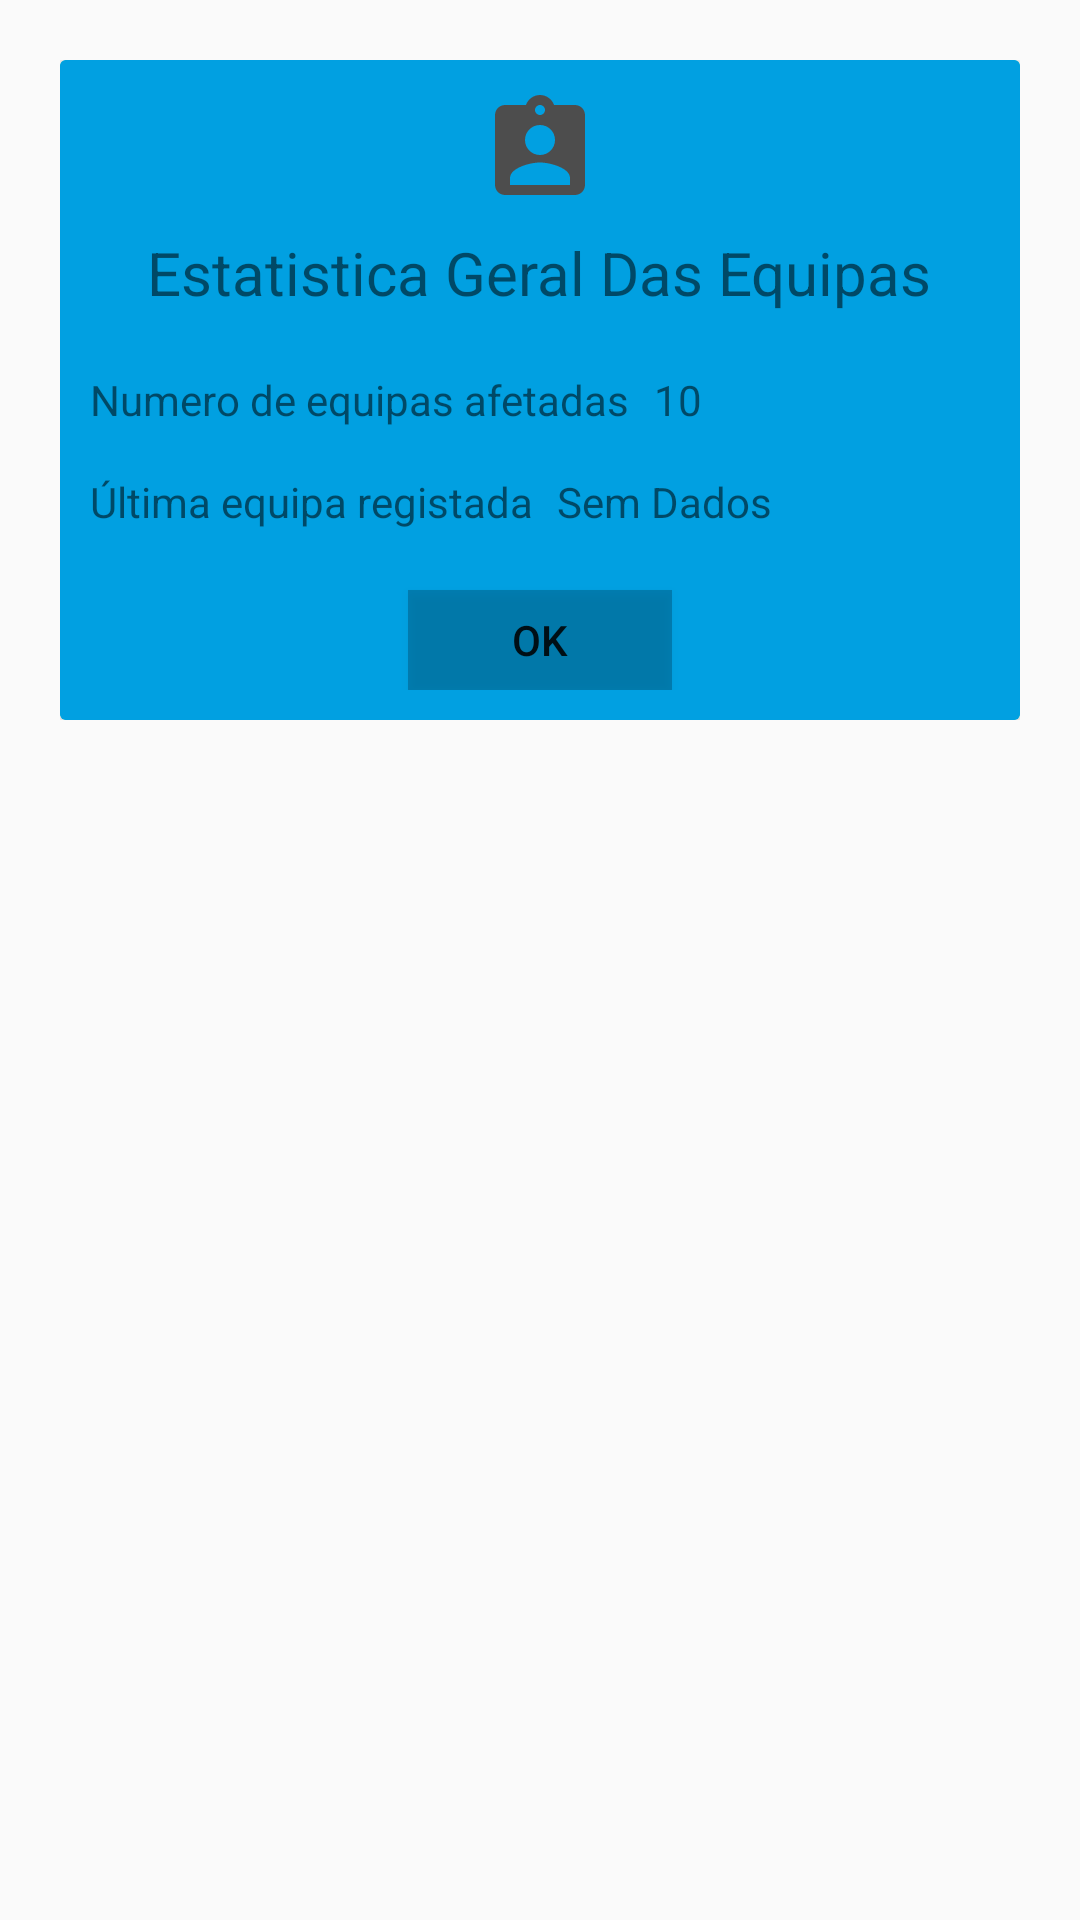

Icon click points for this 1080 × 1920 phone screenshot, format (x=x, y=y):
treinador: (x=540, y=145)
